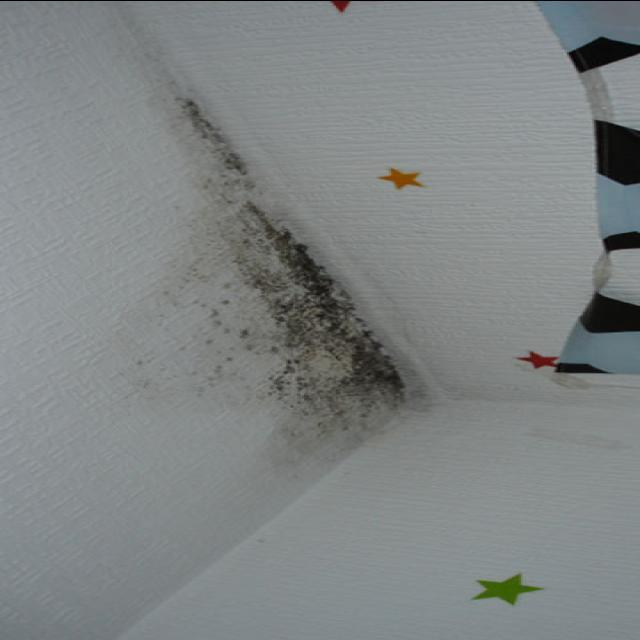tile: (133, 93, 438, 461)
